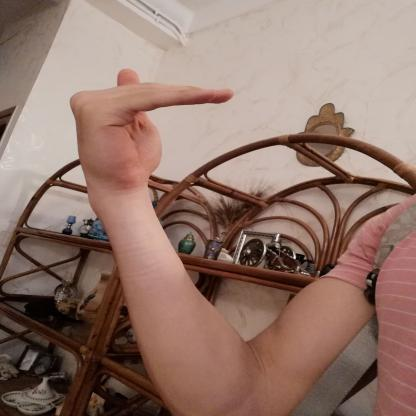KHAA: (53, 60, 253, 191)
